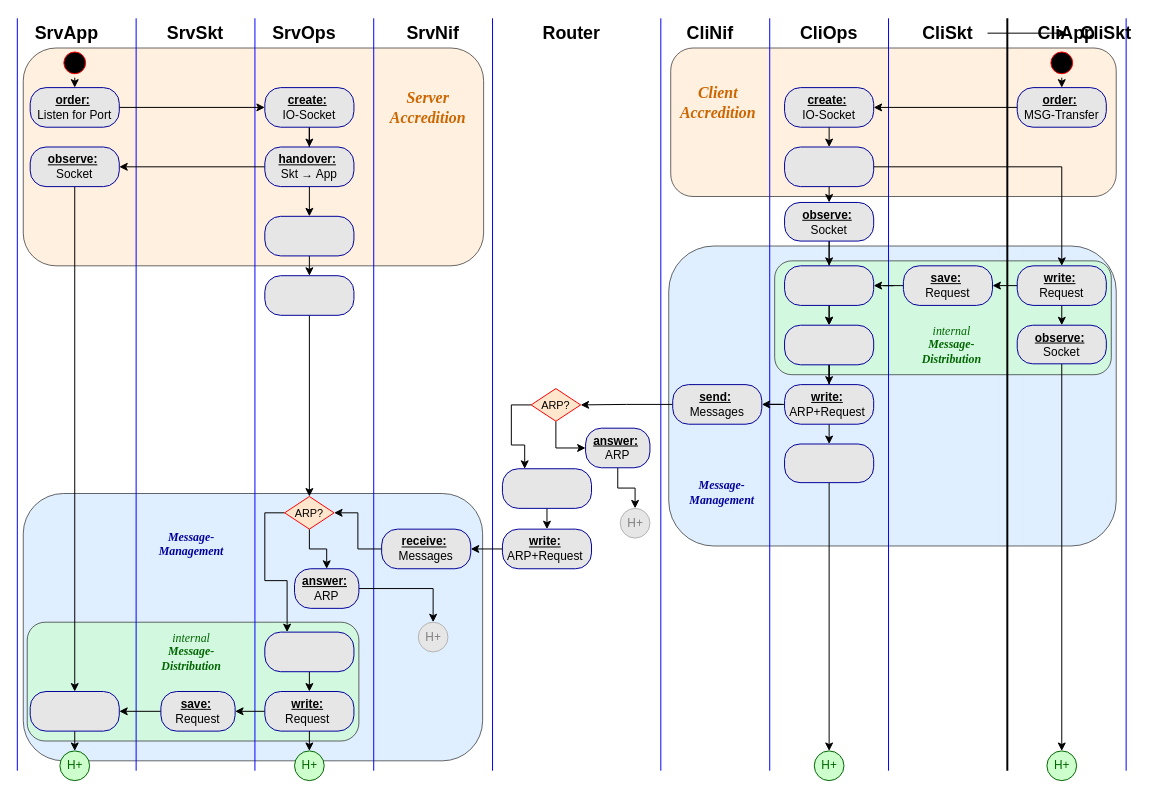
This 1163x798 diagram has some shape labels left out. Each missing label, with the box of its shape:
analyze: DestPort: (264, 631, 354, 672)
complete: Request: (784, 324, 874, 365)
handover: Skt, Port → App: (784, 146, 874, 187)
listen: SrvNwc: (264, 215, 354, 256)
manage: income: (264, 275, 354, 315)
observe: N.-Interface: (784, 443, 874, 483)
read: Request: (29, 691, 119, 731)
reformulate: Request: (501, 468, 592, 508)
takeover: Request: (784, 265, 874, 305)
